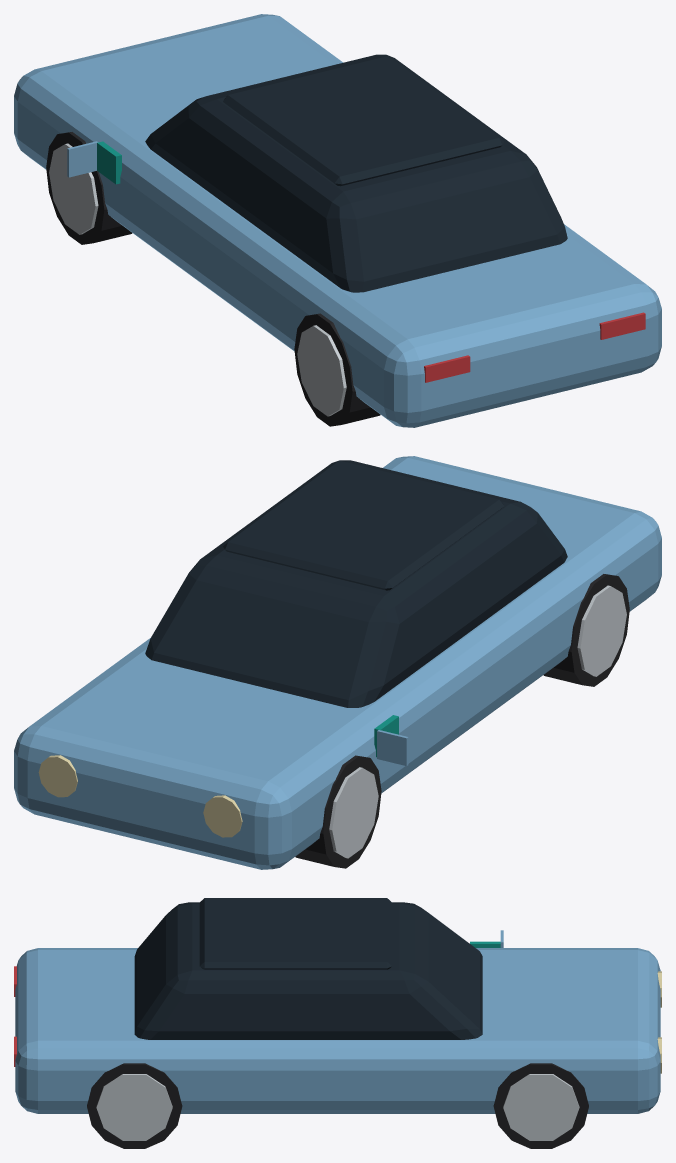
File: sedan.glb
3 renders of one model, top to bottom at view 1: azimuth 30°, elevation 25°; view 2: azimuth 150°, elevation 25°; view 3: azimuth 270°, elevation 25°, orthographic. The views are drawn at different scales.
Visible parts, largest first — view 1: sedan; view 2: sedan; view 3: sedan.
Part boxes in pixels (x1,y1,x2,y2): sedan: (14, 14, 661, 427); sedan: (14, 456, 661, 869); sedan: (14, 898, 661, 1148).
Bounding box in the file's own units: 2.1 × 1.29 × 4.62.
